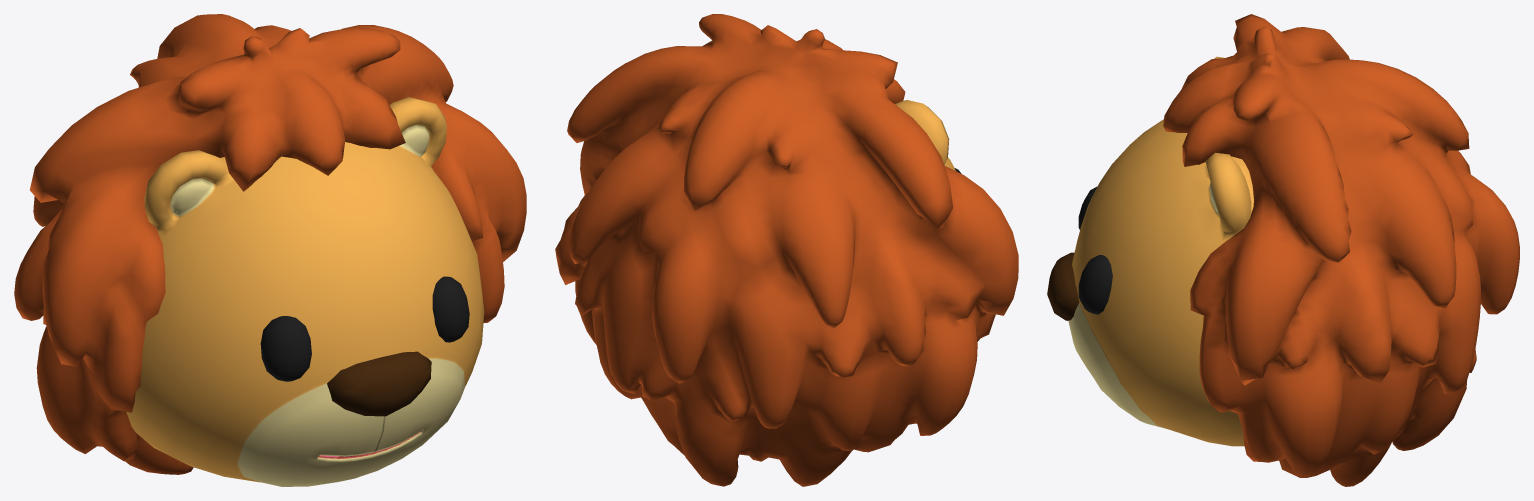
File: LionHead.FBX
3 renders of one model, left to right at view 1: azimuth 30°, elevation 25°; view 2: azimuth 150°, elevation 25°; view 3: azimuth 270°, elevation 25°, orthographic. The views are drawn at different scales.
Visible parts, largest first — view 1: LionHead; view 2: LionHead; view 3: LionHead.
Boxes of the visible parts, x1,y1,x2,y2 form: LionHead: (14,14,526,486); LionHead: (555,14,1018,486); LionHead: (1047,14,1519,486).
Size of the model in its own units: 56.7 by 52.93 by 53.86.
Materials: 4 (4 with a texture image).
